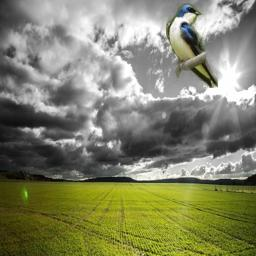Swallow: (166, 3, 218, 88)
